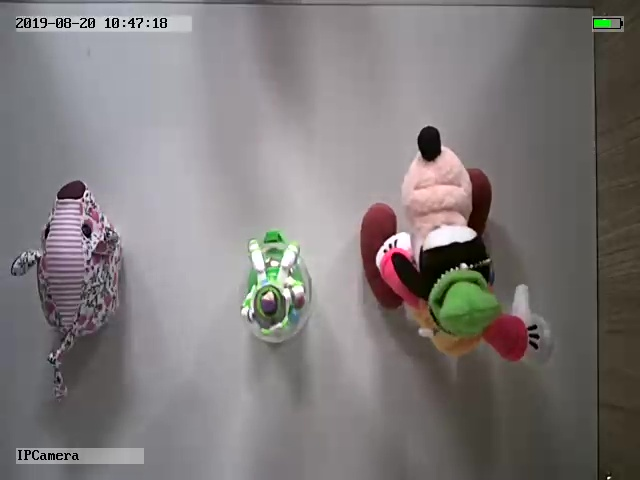buzz: (233, 228, 317, 348)
goofy: (358, 122, 556, 370)
pig: (7, 166, 127, 397)
